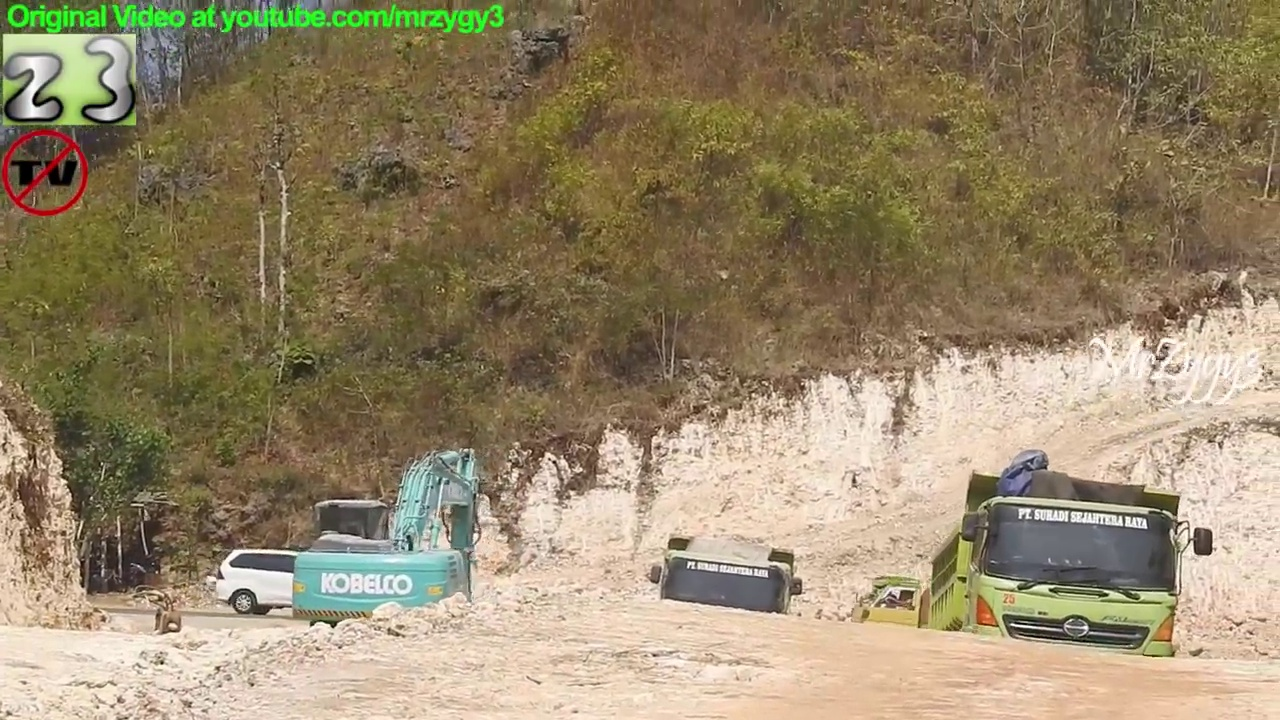excavator: (286, 443, 491, 657)
truck: (920, 465, 1220, 700), (840, 571, 1161, 682), (643, 528, 807, 683)
